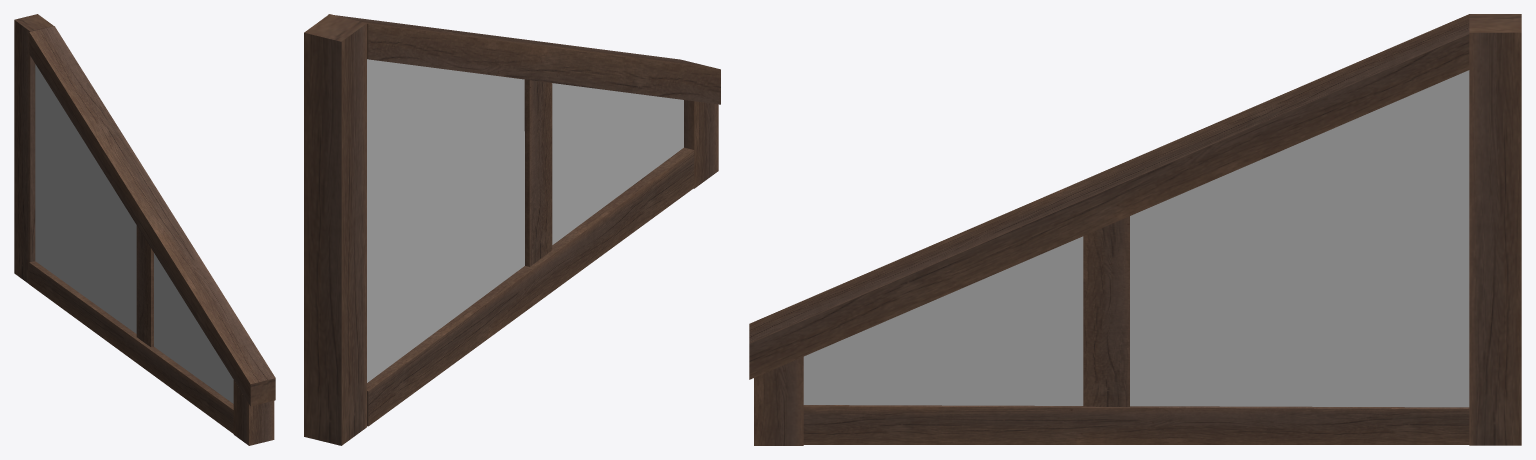
File: yane_frame_1.25t_1f_1.fbx
The picture shows the model from 3 angles, left to right: view 1: azimuth 30°, elevation 25°; view 2: azimuth 150°, elevation 25°; view 3: azimuth 270°, elevation 25°; orthographic projection. The views are drawn at different scales.
Visible parts, largest first — view 1: yane_frame_1.25t_1f_1; view 2: yane_frame_1.25t_1f_1; view 3: yane_frame_1.25t_1f_1.
Part boxes in pixels (x1,y1,x2,y2): yane_frame_1.25t_1f_1: (14, 14, 275, 445); yane_frame_1.25t_1f_1: (304, 14, 720, 445); yane_frame_1.25t_1f_1: (749, 14, 1521, 445).
Bounding box in the file's own units: 18.18 × 175 × 296.
